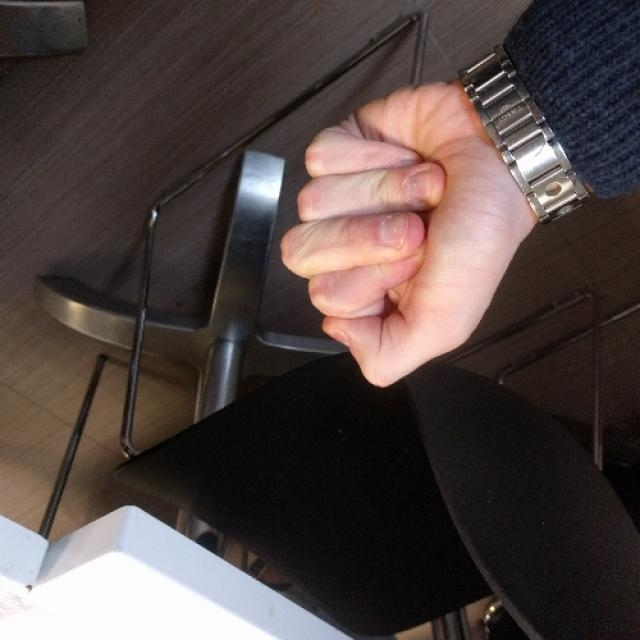rock: (283, 78, 545, 391)
